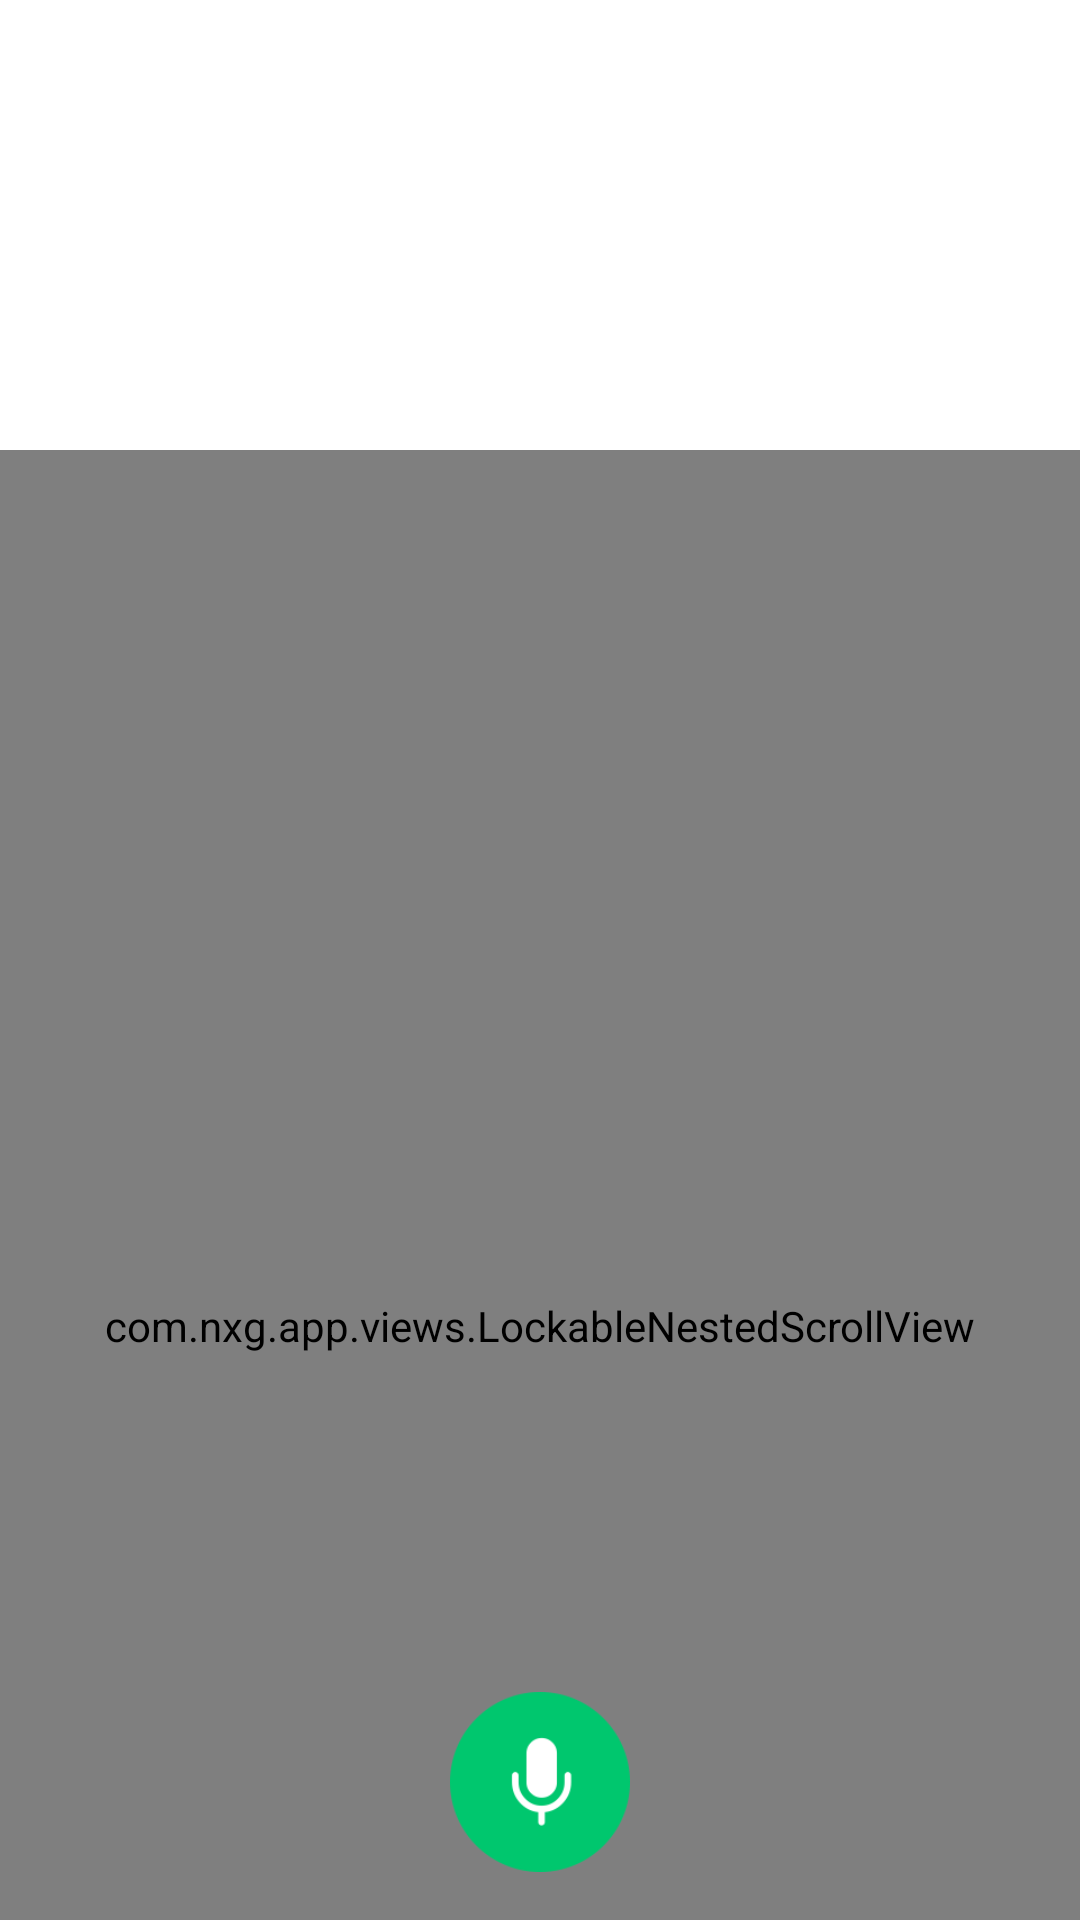

Named icons in this screenshot (1080w x 1920h) and their centers, [x,y]:
record: [540,1782]
